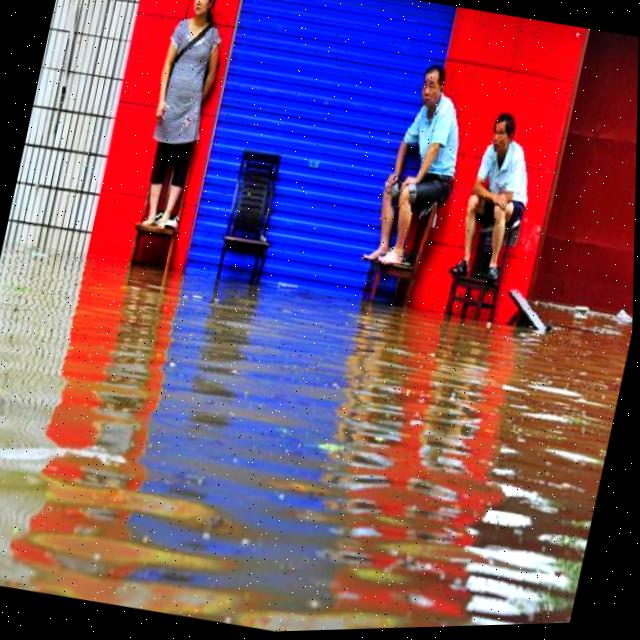civilian: (101, 0, 273, 259), (351, 54, 486, 300), (445, 105, 560, 311)
